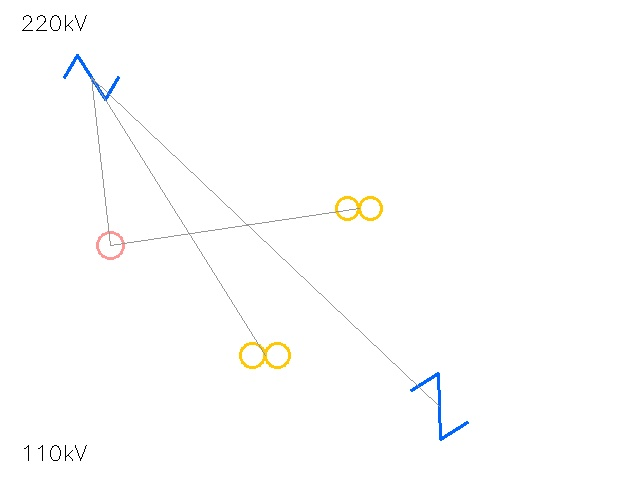circuit_breaker: (407, 374, 471, 438), (65, 51, 117, 103)
reactor: (84, 219, 136, 271)
transformer_2w: (234, 324, 296, 386), (331, 180, 387, 236)
